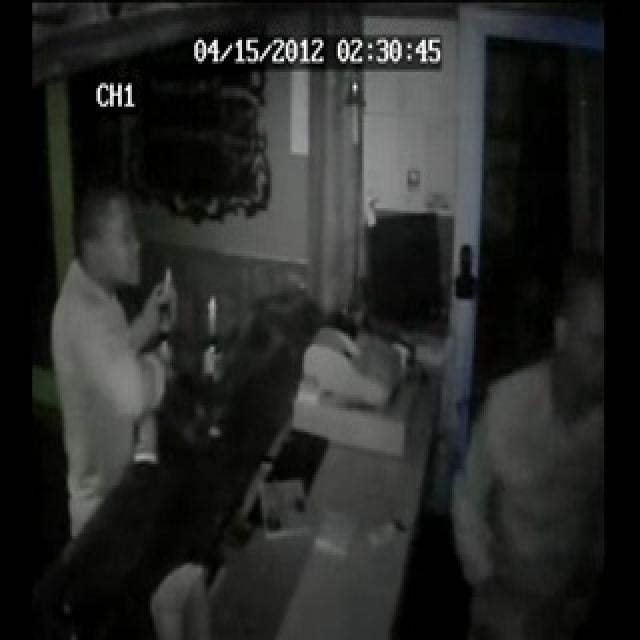thief: (524, 235, 623, 427), (52, 191, 171, 312)
